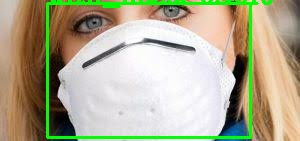with_mask: (34, 1, 265, 141)
